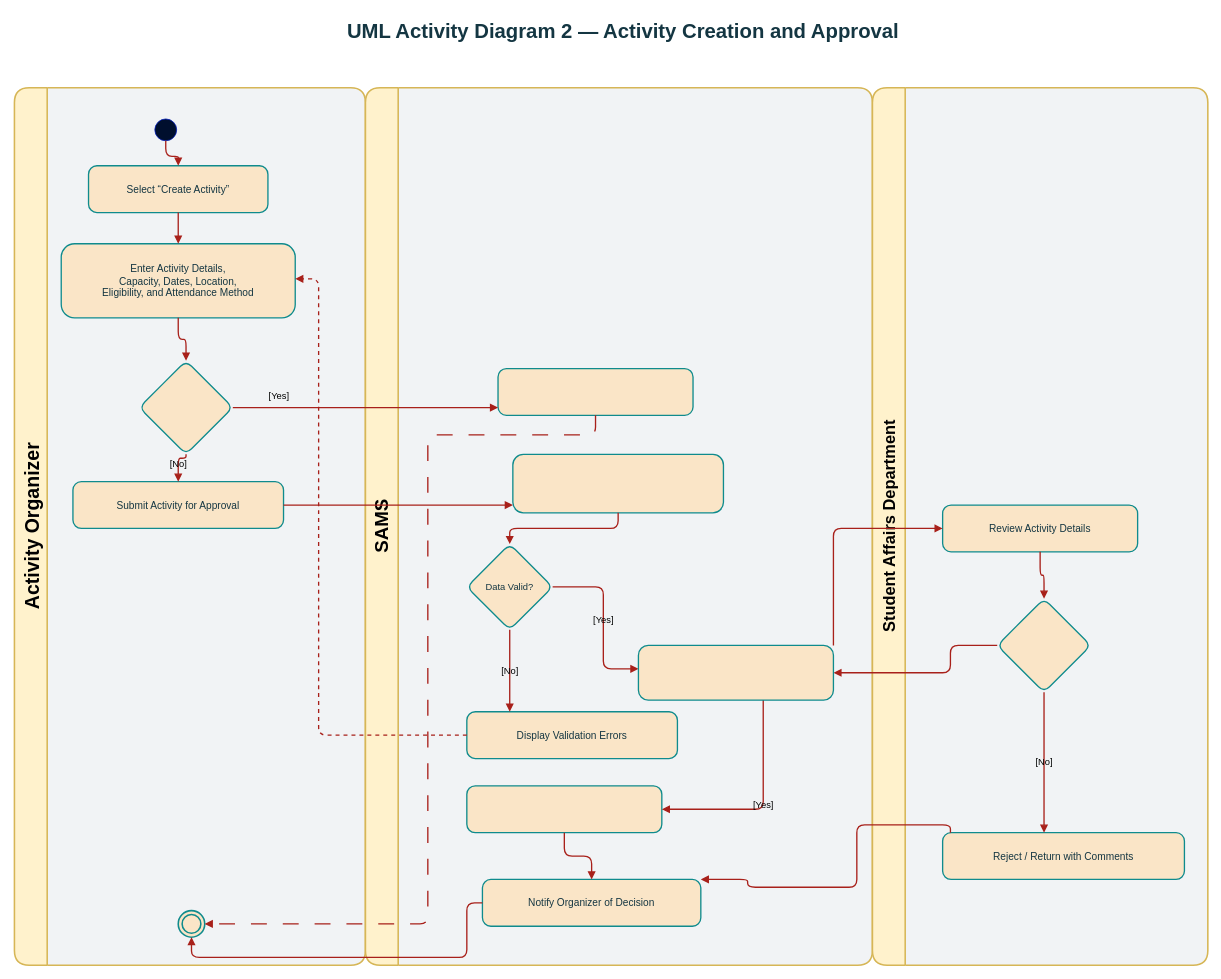
Image size: 1221x979. Some labels were removed from this diagram. The shapes that lost their labels are listed below. From the top down, each one's centre as x and y in pixels, then its label:
At (x=185, y=407): "Save as Draft?".
At (x=595, y=392): "Save Draft Activity".
At (x=618, y=483): "Validate Required Fields and Business Rules".
At (x=1043, y=645): "Approve?".
At (x=735, y=672): "Store Activity as Pending Approval".
At (x=564, y=809): "Publish Activity".
